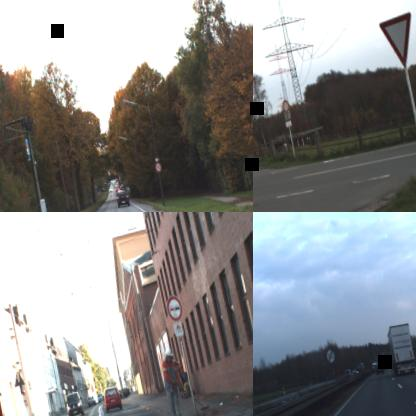give way: (377, 10, 416, 68)
no overtaking (trucks): (164, 292, 185, 322)
no traffic both ways: (280, 98, 290, 113)
restriction ends: (324, 348, 335, 364)
speed limit 50: (154, 161, 162, 172)
